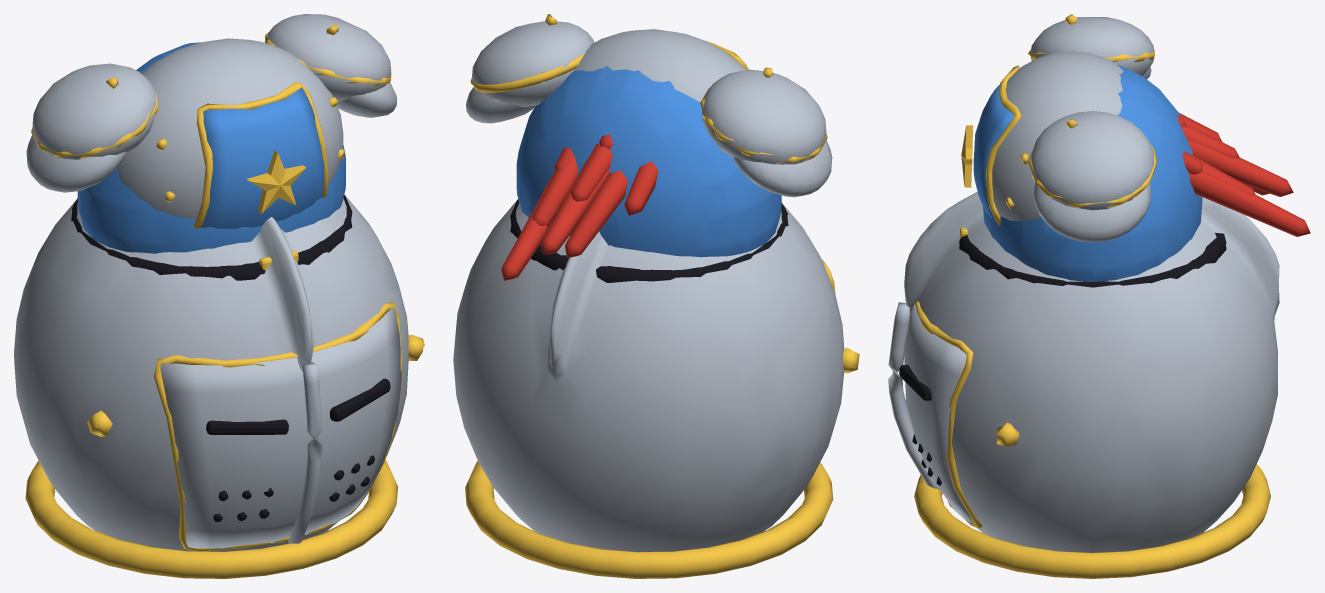
File: knight-low.glb
The picture shows the model from 3 angles, left to right: view 1: azimuth 30°, elevation 25°; view 2: azimuth 150°, elevation 25°; view 3: azimuth 270°, elevation 25°; orthographic projection. The views are drawn at different scales.
Parts seen in each view (by area): view 1: knight_Head, knight_Body; view 2: knight_Head, knight_Body; view 3: knight_Head, knight_Body.
Boxes of the visible parts, box(x1,y1,x2,y2) form: knight_Head: box(14, 195, 424, 578); knight_Body: box(26, 14, 396, 280); knight_Head: box(453, 134, 859, 578); knight_Body: box(466, 14, 832, 282); knight_Head: box(888, 113, 1310, 578); knight_Body: box(959, 14, 1226, 287).
Bounding box in the file's own units: 0.2236 × 0.3137 × 0.2438.
